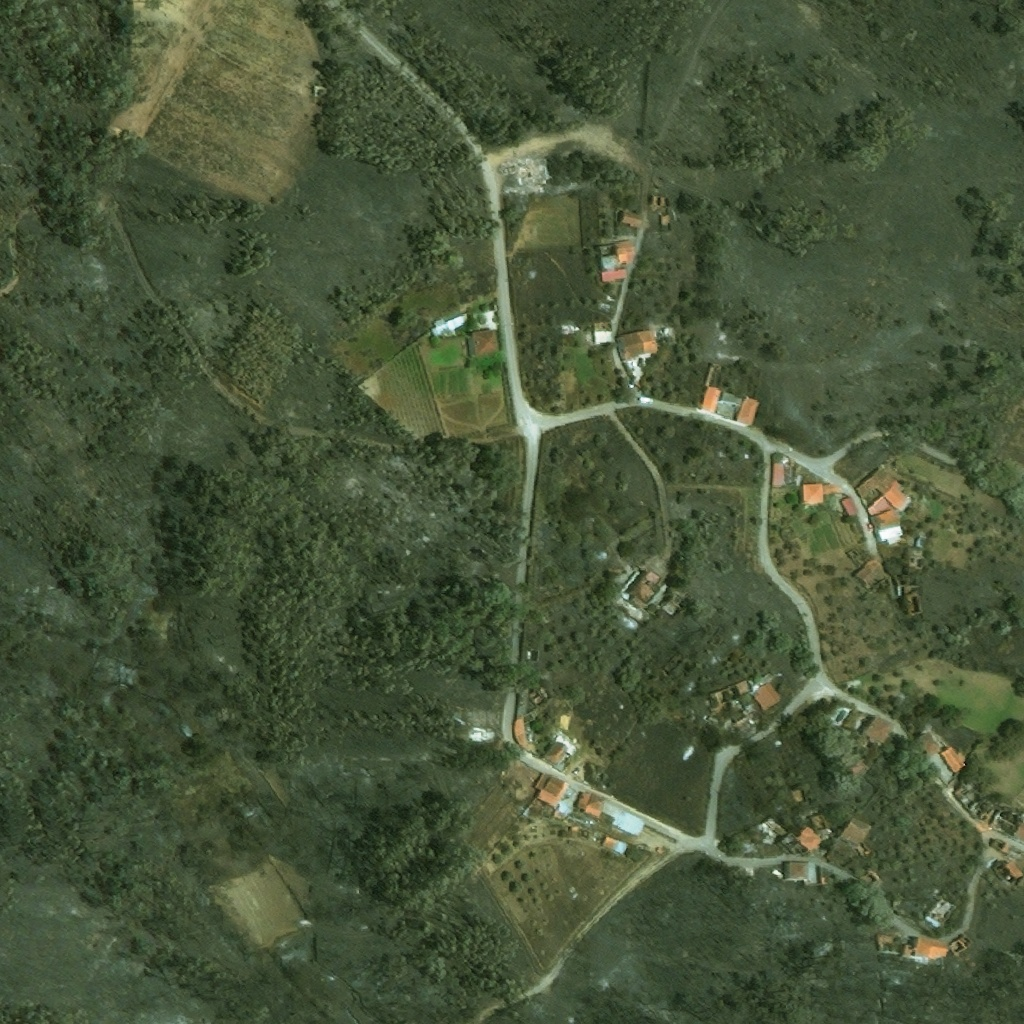0 no-damage: (530, 771, 570, 813), (865, 482, 908, 516), (466, 328, 500, 359), (611, 810, 646, 839), (574, 790, 608, 819), (912, 729, 942, 760), (733, 397, 759, 430), (696, 385, 722, 418), (938, 745, 966, 774), (916, 935, 947, 960), (544, 739, 570, 767), (877, 525, 905, 544), (600, 837, 628, 855), (783, 862, 810, 880), (874, 514, 902, 531), (429, 319, 451, 339), (841, 496, 859, 520), (803, 485, 824, 505), (445, 314, 468, 332), (620, 210, 644, 227), (601, 269, 628, 283), (771, 463, 787, 486), (477, 310, 497, 328)
1 minor-damage: (853, 469, 896, 508), (615, 329, 658, 362), (750, 682, 782, 714), (852, 558, 883, 588)
2 major-damage: (623, 566, 668, 620), (776, 825, 824, 858), (837, 814, 872, 858), (861, 714, 894, 746), (712, 390, 742, 425), (990, 859, 1023, 887), (614, 239, 639, 261), (600, 244, 620, 268), (591, 332, 613, 345), (591, 322, 612, 332)
3 destroyed: (970, 796, 1014, 833), (503, 156, 554, 187), (708, 680, 752, 712), (927, 895, 958, 928), (659, 590, 690, 622), (988, 836, 1023, 862), (950, 778, 978, 805), (903, 584, 926, 614), (753, 819, 779, 845), (948, 934, 973, 957), (472, 729, 498, 743), (876, 934, 896, 952), (817, 868, 836, 886), (905, 555, 927, 570), (652, 195, 673, 207), (660, 214, 674, 226), (796, 474, 804, 483)
4 un-classified: (1012, 823, 1023, 843)
